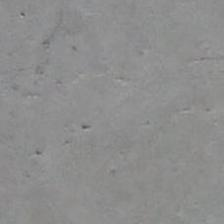Non_Crack: (15, 25, 224, 202)
